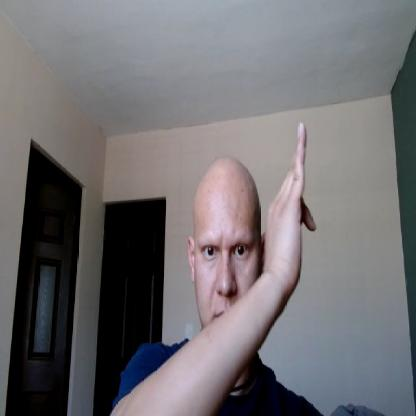F: (264, 119, 318, 293)
